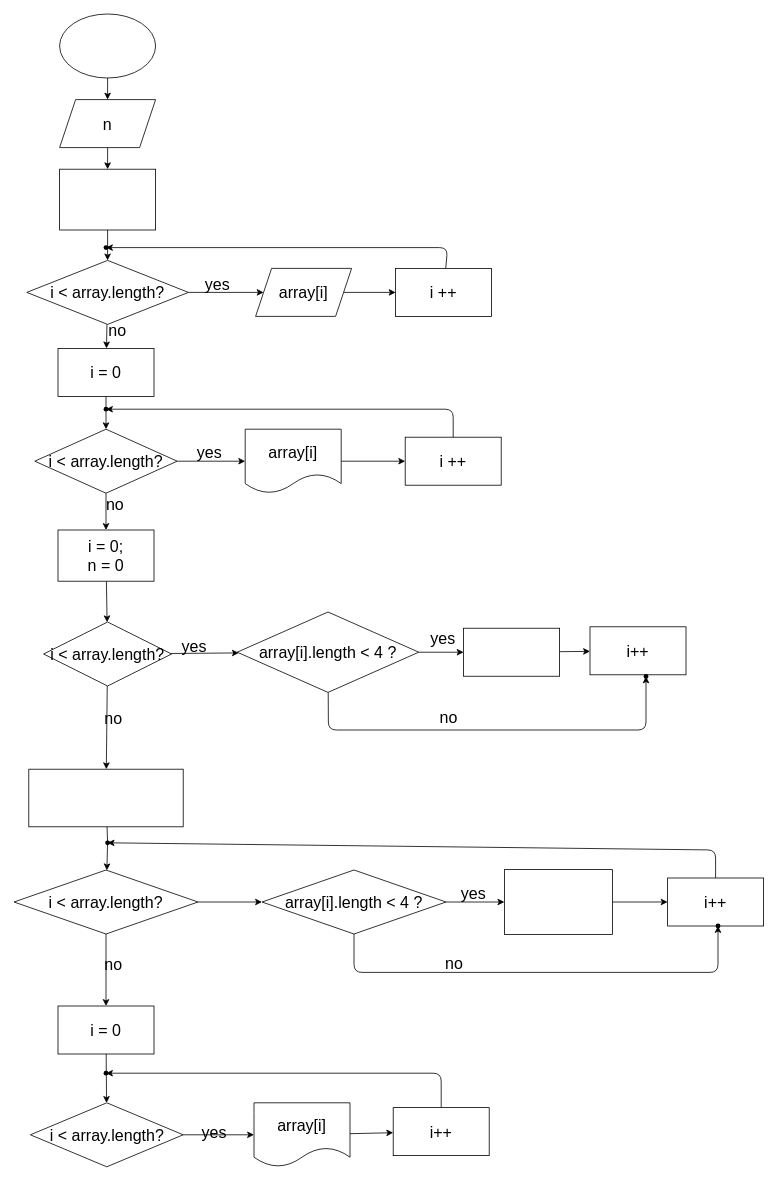
The diagram is 778 pixels wide and 1181 high, and some of its shapes have lost their labels. Here are the shapes that lost their labels. From the top down, the centre of each, then its label:
At point 107,45: "start".
At point 107,199: "i = 0; array = new string[n]".
At point 511,651: "n++".
At point 105,797: "resalt = new string[n]; i = 0; n = 0".
At point 558,901: "resalt[n] = array[n]; n++".
